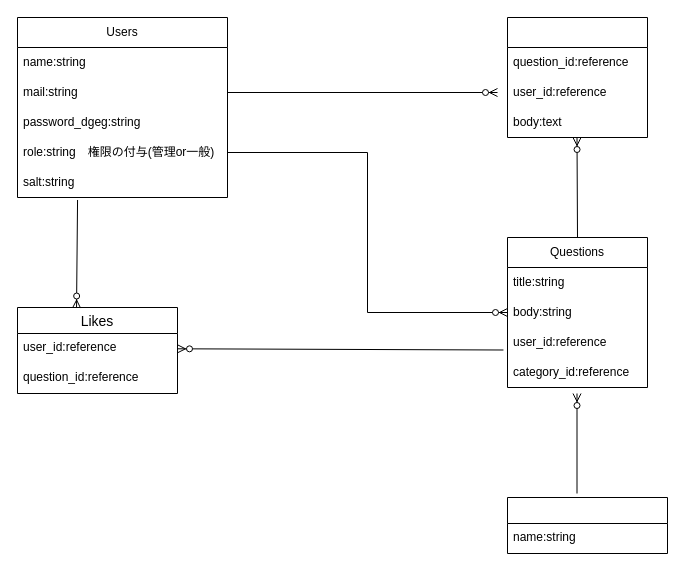
Some shapes in this 685 by 574 pixel diagram are drawn without their labels. Here are the shapes that lost their labels. From the top down, the box of each, then its label:
(506, 16, 648, 138): Answers
(506, 496, 668, 554): Categories
